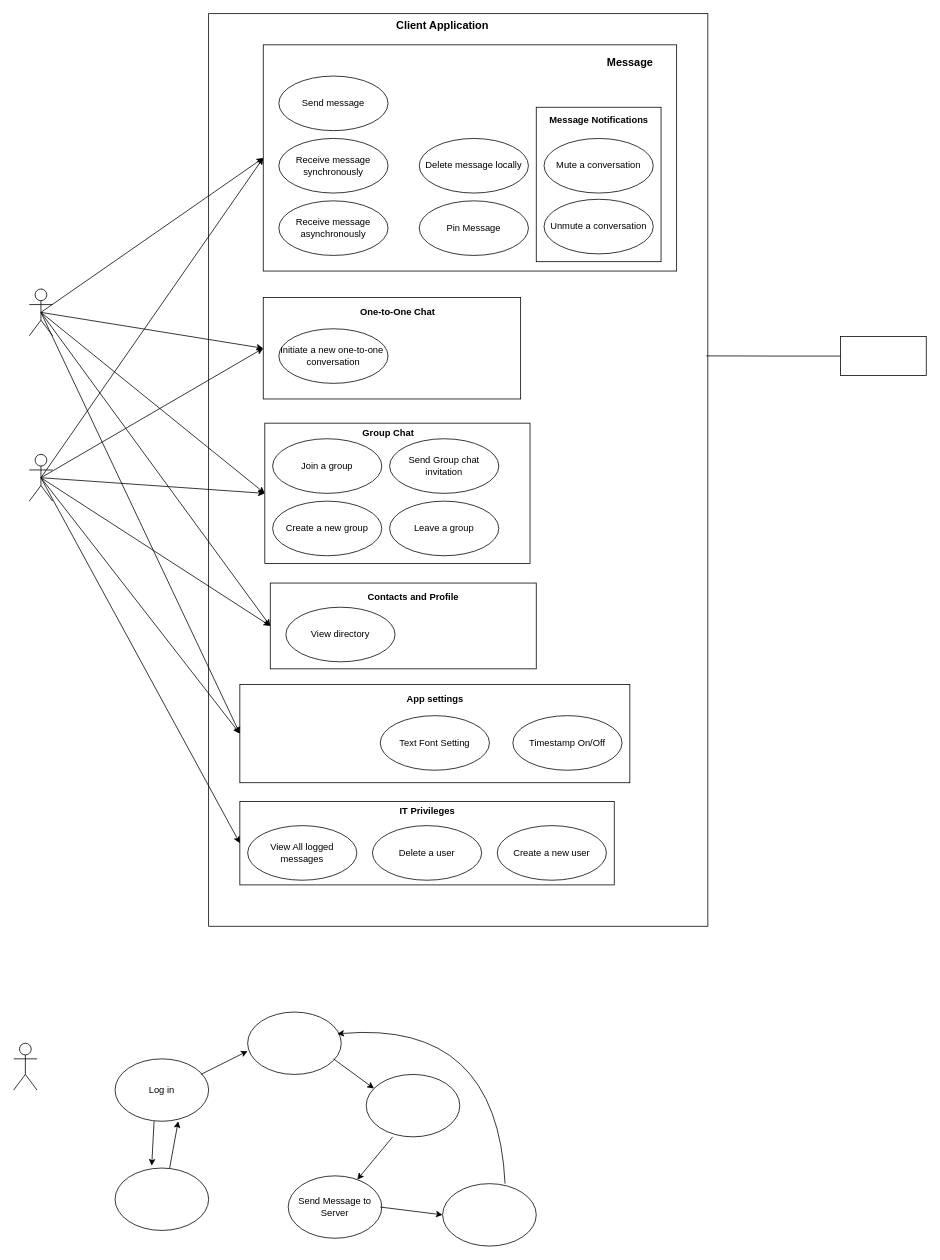
The diagram is 940 pixels wide and 1260 high, and some of its shapes have lost their labels. Here are the shapes that lost their labels. From the top down, the box of each, then its label:
(28, 288, 53, 336): Normal User
(840, 336, 926, 376): Sever Application
(28, 454, 53, 501): IT User
(247, 1011, 341, 1074): Choose Recipient
(13, 1042, 37, 1090): User
(365, 1074, 460, 1137): Compose and Send Chat Message
(114, 1167, 209, 1230): Unsuccessful Login
(442, 1183, 536, 1246): "Message Sent Successfully"
